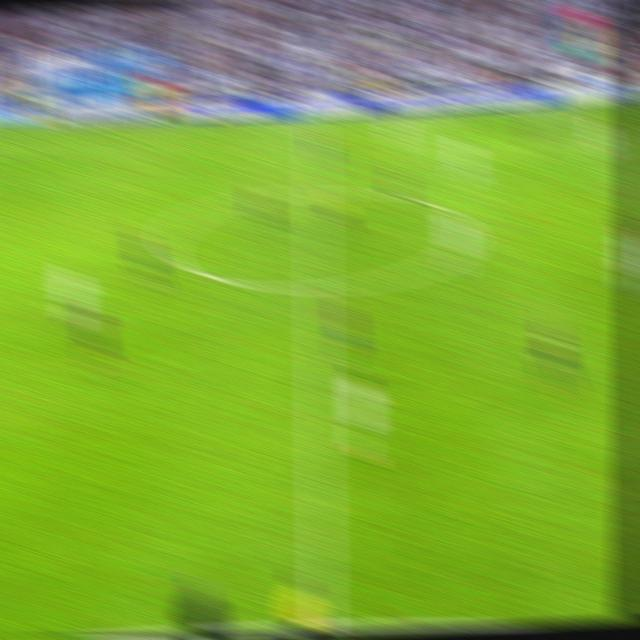halfcircle_bottom: (304, 266, 332, 305)
halfcircle_top: (303, 176, 329, 206)
midline_bottom_intersection: (305, 599, 339, 633)
midline_top_intersection: (303, 113, 326, 132)
